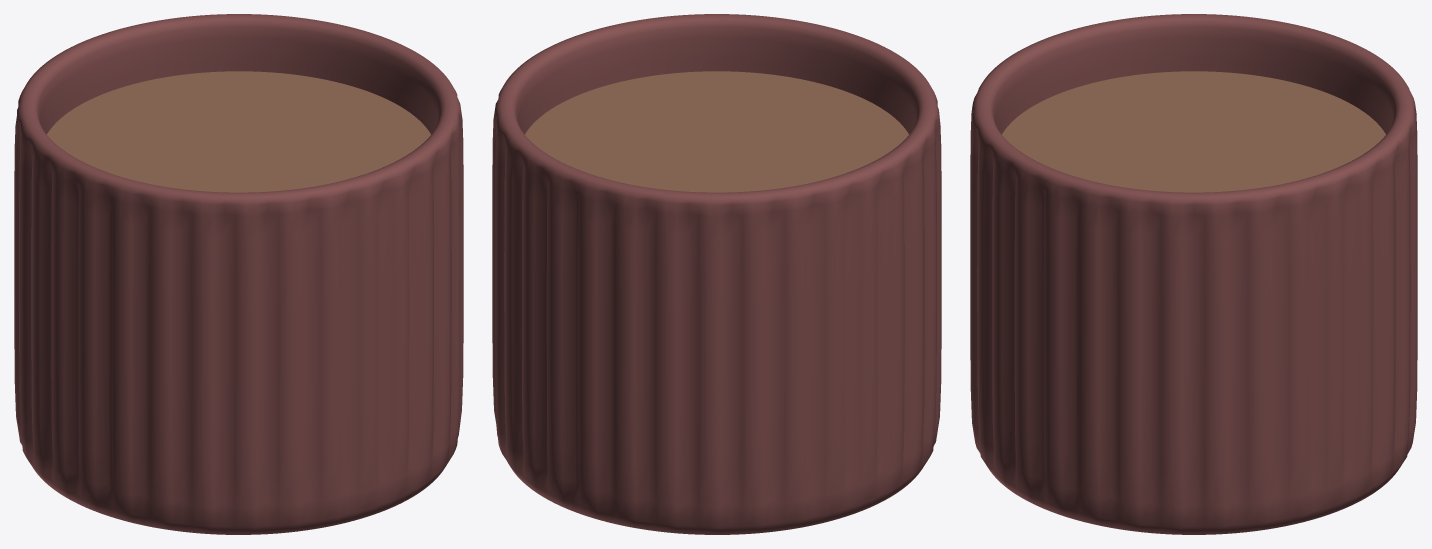
File: fluted_red.glb
The picture shows the model from 3 angles, left to right: view 1: azimuth 30°, elevation 25°; view 2: azimuth 150°, elevation 25°; view 3: azimuth 270°, elevation 25°; orthographic projection.
Visible parts, largest first — view 1: Circle.011, Circle.010; view 2: Circle.011, Circle.010; view 3: Circle.011, Circle.010.
Boxes of the visible parts, bbox=[...] form: Circle.011: bbox=[14, 14, 463, 534]; Circle.010: bbox=[47, 71, 430, 192]; Circle.011: bbox=[492, 14, 941, 534]; Circle.010: bbox=[525, 71, 908, 192]; Circle.011: bbox=[970, 14, 1417, 534]; Circle.010: bbox=[1002, 71, 1385, 192].
Bounding box in the file's own units: 11.66 × 9.97 × 11.66.
